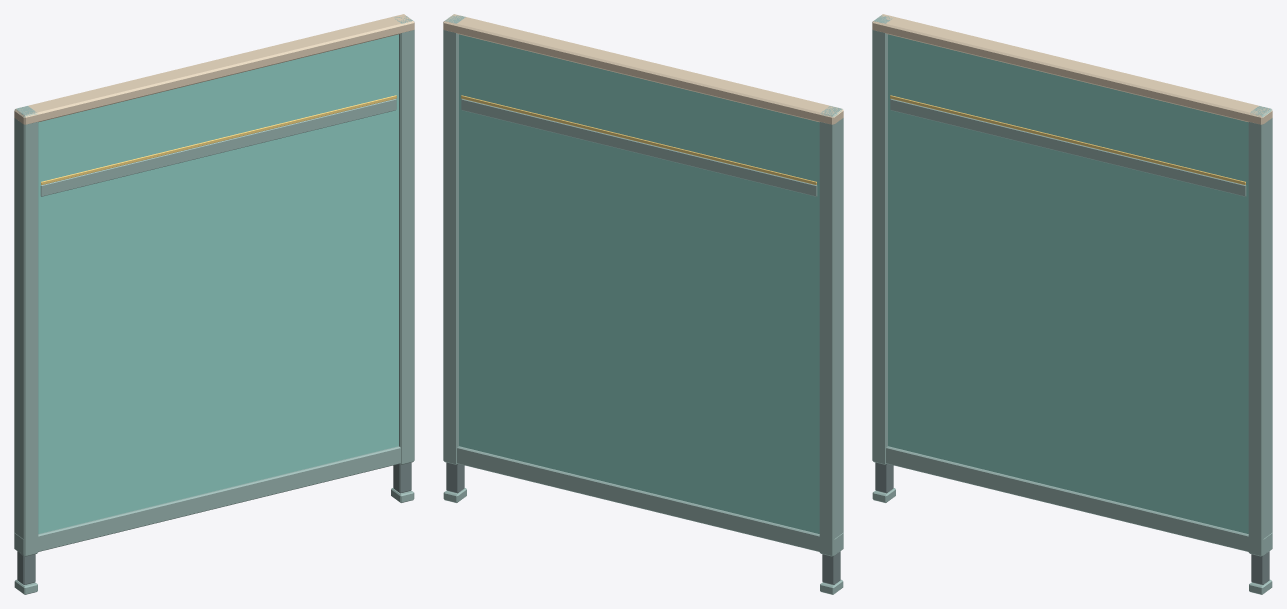
File: Structure-CivicStallPartition.fbx
3 renders of one model, left to right at view 1: azimuth 30°, elevation 25°; view 2: azimuth 150°, elevation 25°; view 3: azimuth 330°, elevation 25°, orthographic.
Parts seen in each view (by area): view 1: Structure-CivicStallPartition Mesh; view 2: Structure-CivicStallPartition Mesh; view 3: Structure-CivicStallPartition Mesh.
Part boxes in pixels (bbox=[...]): Structure-CivicStallPartition Mesh: bbox=[14, 14, 414, 594]; Structure-CivicStallPartition Mesh: bbox=[443, 14, 843, 594]; Structure-CivicStallPartition Mesh: bbox=[872, 14, 1272, 594].
Size of the model in its own units: 1.55 by 1.82 by 0.076.
